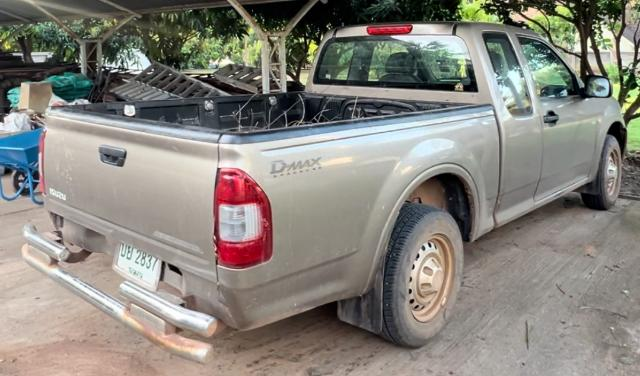pickup-truck: (20, 17, 628, 362)
